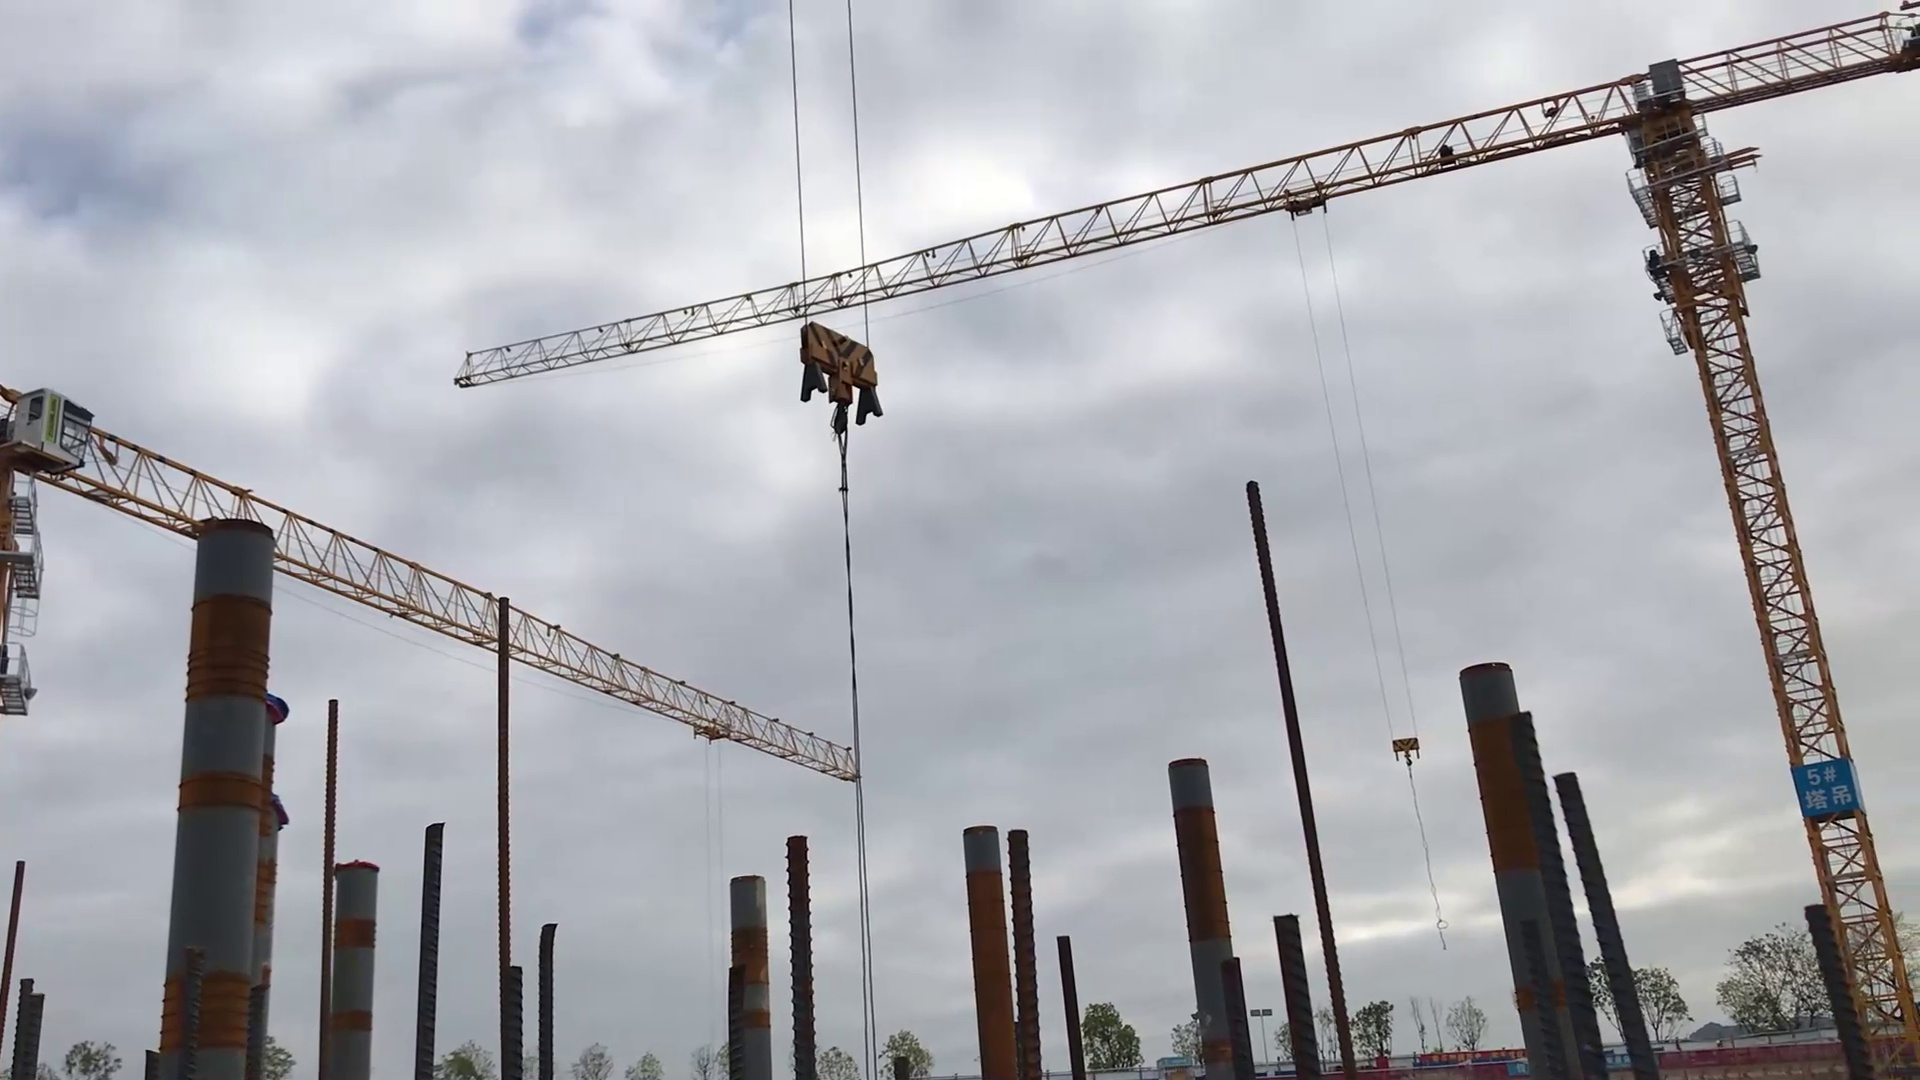hook: (793, 320, 894, 440)
